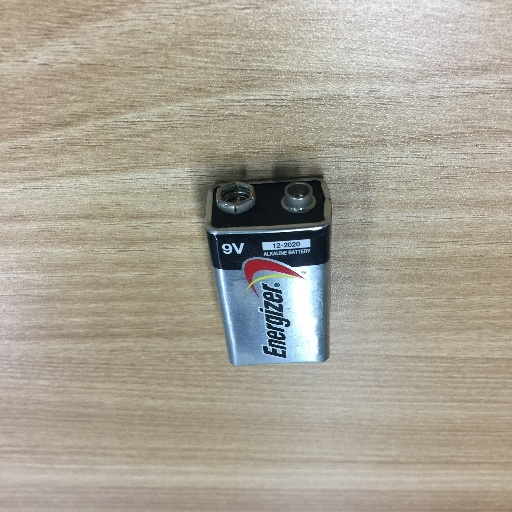Battery_3: (200, 164, 348, 379)
